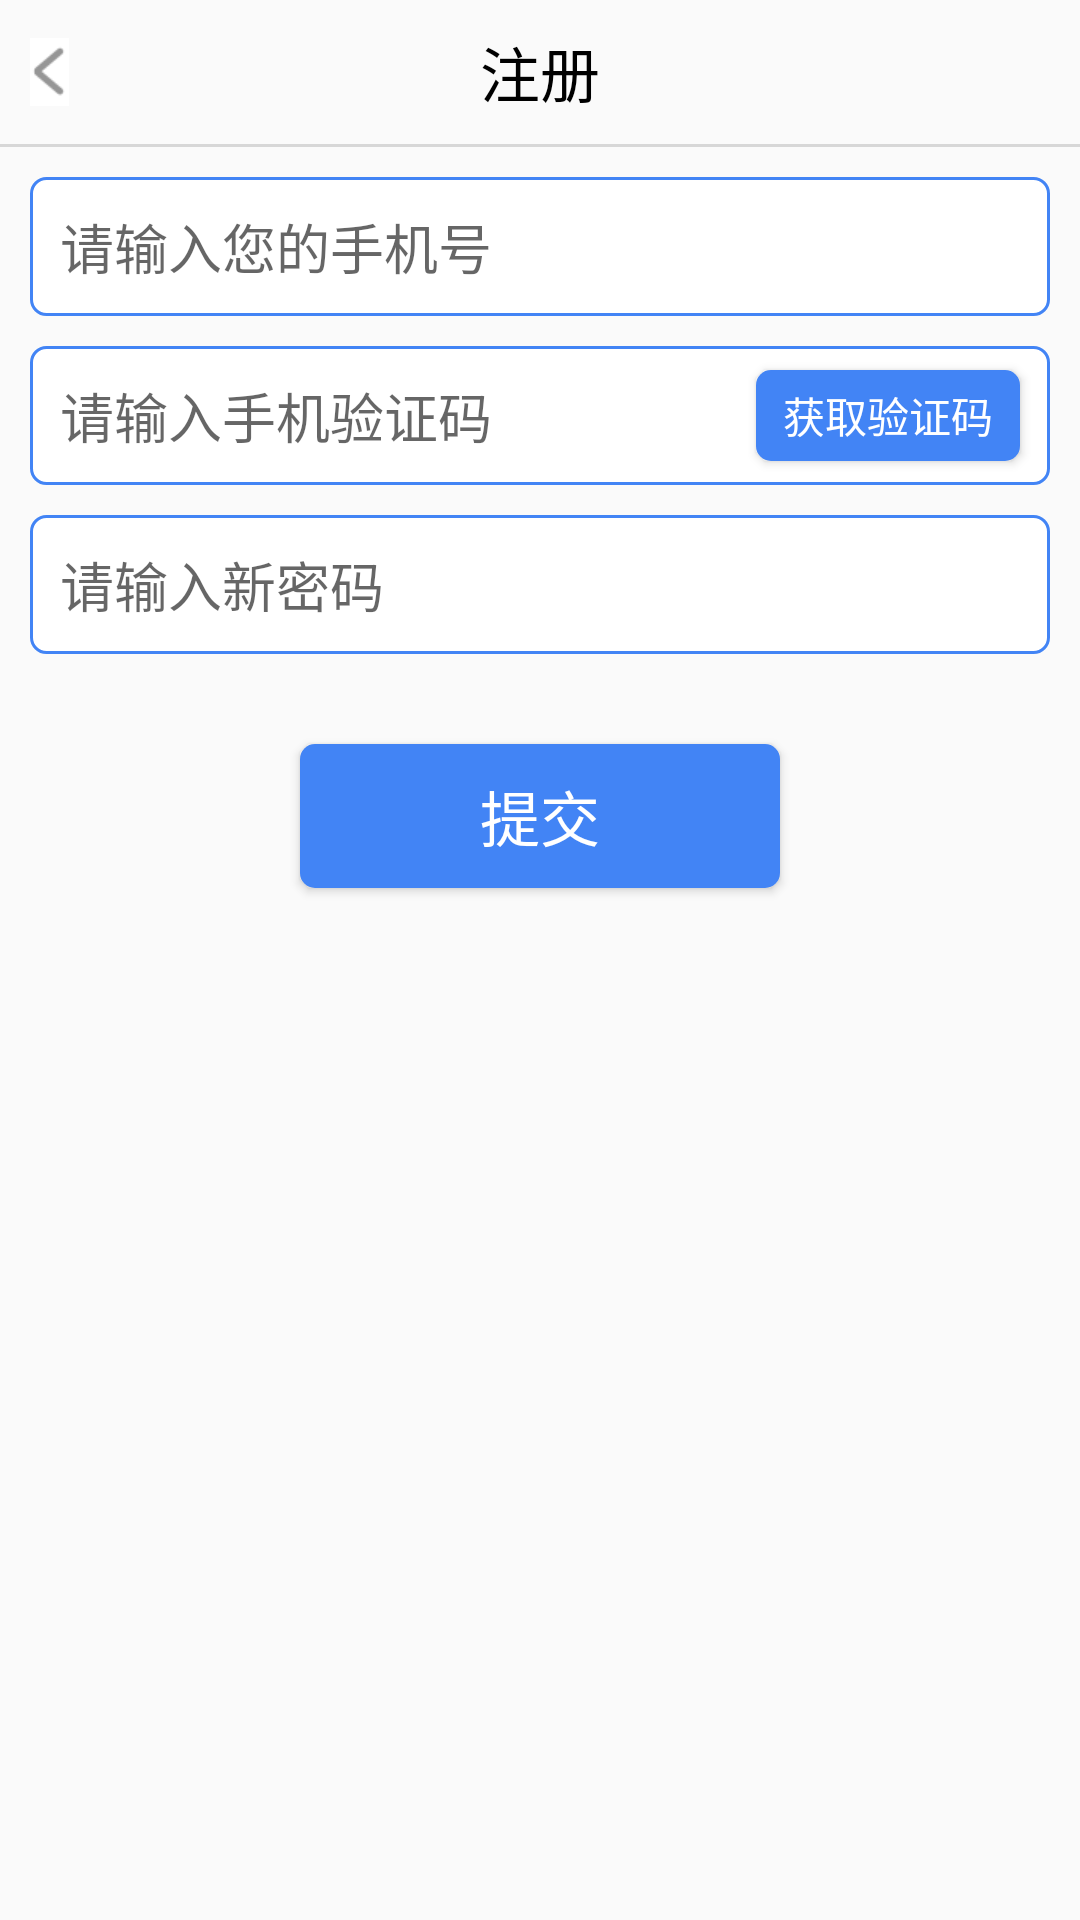

Icon click points for this 1080 x 1920 phone screenshot, format (x,y):
left title: (49,71)
